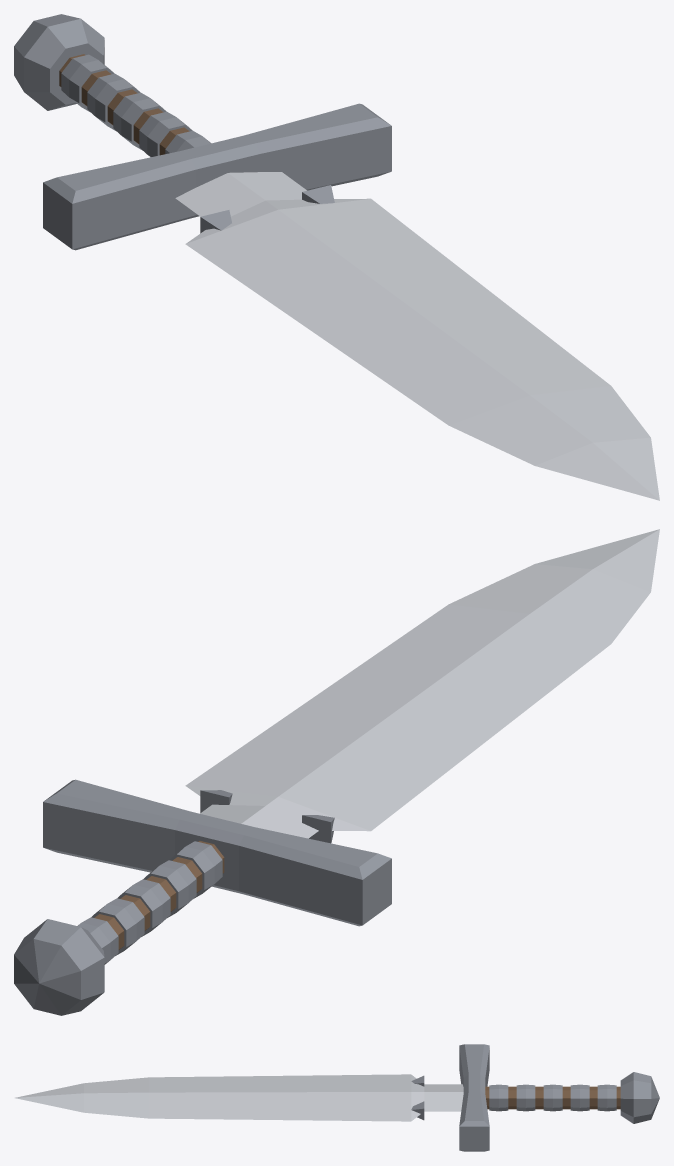
Rendered from greatsword.glb.
3 renders of one model, top to bottom at view 1: azimuth 30°, elevation 25°; view 2: azimuth 150°, elevation 25°; view 3: azimuth 270°, elevation 25°, orthographic. The views are drawn at different scales.
Visible parts, largest first — view 1: greatsword; view 2: greatsword; view 3: greatsword.
Part boxes in pixels (bbox=[...]): greatsword: bbox=[14, 14, 659, 500]; greatsword: bbox=[14, 529, 659, 1015]; greatsword: bbox=[15, 1044, 659, 1151].
Size of the model in its own units: 0.44 by 0.1109 by 1.48.
